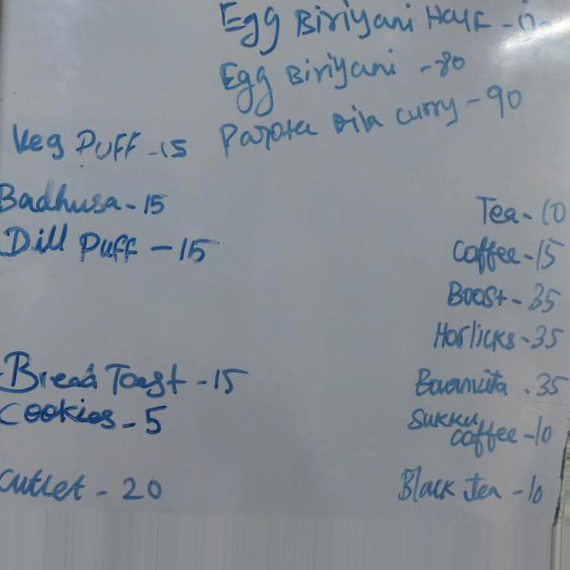Tea - 10: (469, 189, 570, 230)
badhusa -15: (1, 180, 172, 222)
black tea - 10: (399, 462, 548, 511)
boost - 35: (440, 275, 570, 319)
bournvita - 35: (414, 364, 570, 403)
bread toast - 15: (1, 347, 247, 399)
coffee - 15: (451, 235, 570, 273)
cookies - 5: (1, 399, 173, 437)
cutlet - 20: (1, 466, 167, 507)
dill puff - 15: (1, 221, 225, 266)
egg briyani - 80: (210, 48, 417, 100)
egg briyani half -50: (211, 1, 563, 48)
horlicks - 35: (432, 320, 570, 359)
parotta - 90: (215, 100, 467, 159)
sukku coffee - 10: (407, 405, 559, 462)
veg puff - 15: (5, 125, 196, 160)
